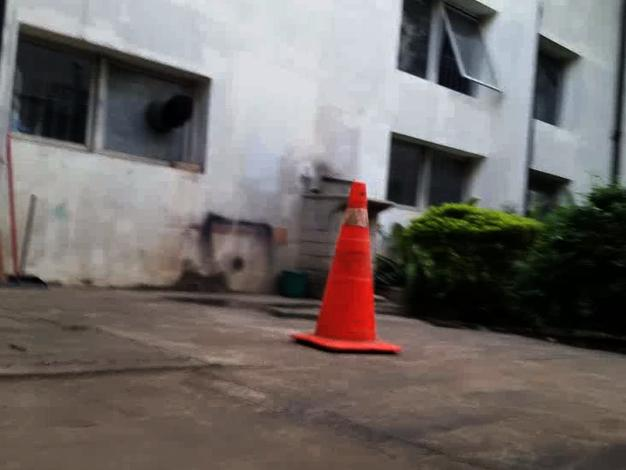0 cone: (288, 181, 402, 351)
